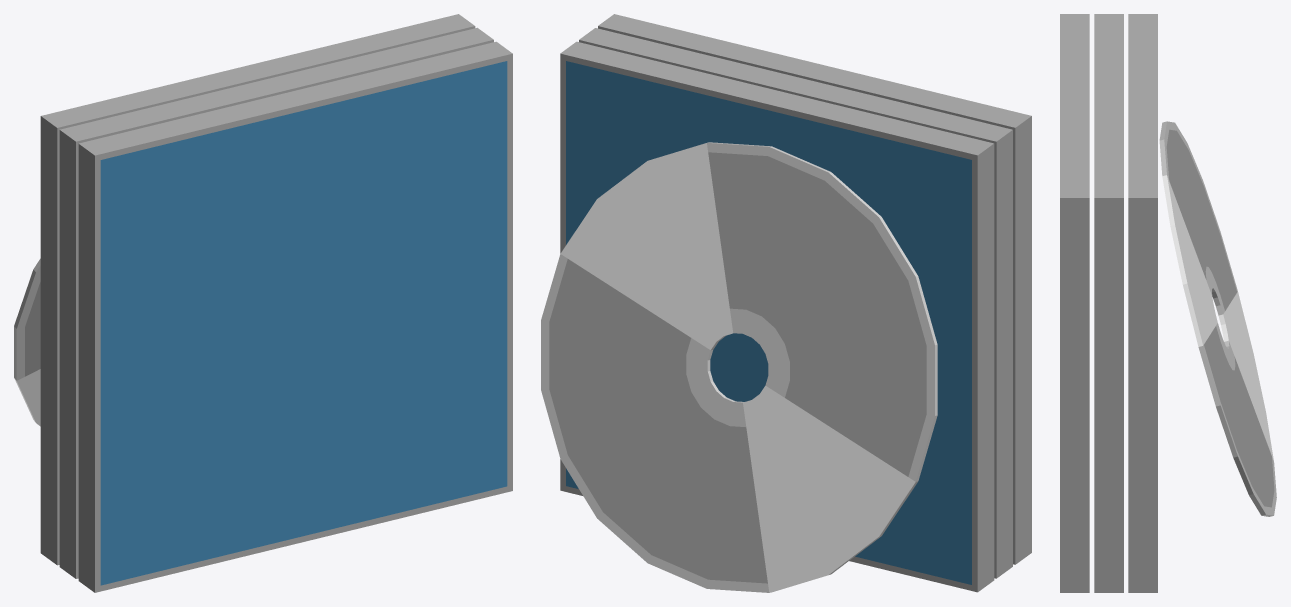
3 views of the same model, side by side, from view 1: azimuth 30°, elevation 25°; view 2: azimuth 150°, elevation 25°; view 3: azimuth 270°, elevation 25° (orthographic). The views are drawn at different scales.
Parts seen in each view (by area): view 1: CDs; view 2: CDs; view 3: CDs.
Part boxes in pixels (x1=…): CDs: x1=14, y1=14, x2=512, y2=592; CDs: x1=541, y1=14, x2=1031, y2=592; CDs: x1=1060, y1=14, x2=1276, y2=592.
Bounding box in the file's own units: 45 × 45 × 22.39.
Materials: 1 (1 with a texture image).
